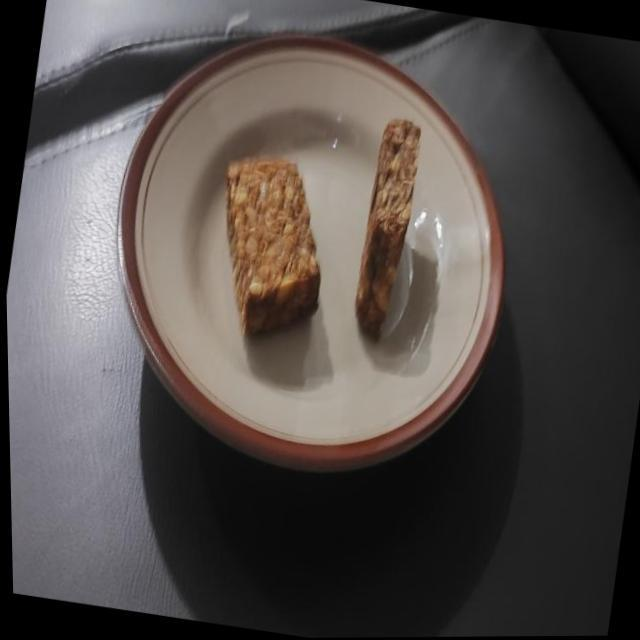tempe_goreng: (226, 159, 320, 335), (356, 119, 420, 339)
